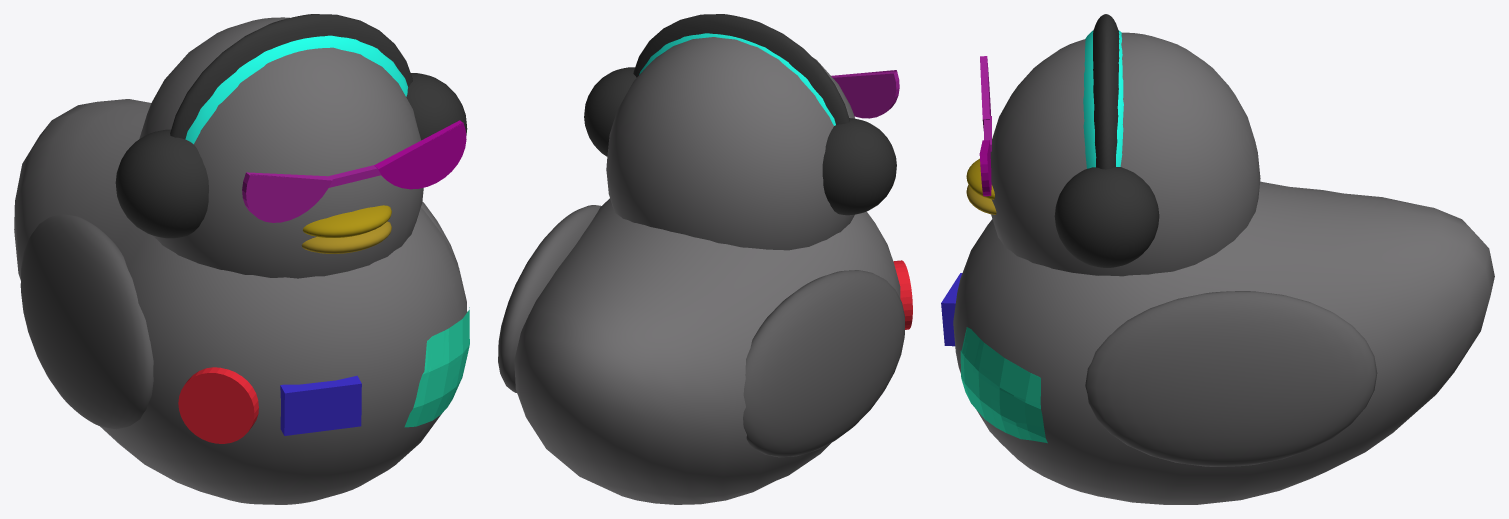
Rendered from ahiru.fbx.
3 renders of one model, left to right at view 1: azimuth 30°, elevation 25°; view 2: azimuth 150°, elevation 25°; view 3: azimuth 270°, elevation 25°, orthographic. The views are drawn at different scales.
Parts seen in each view (by area): view 1: 球, 球.001, 球.008, 球.006, 球.004, 円柱, 立方体, 立方体.001, 円柱.002, 円柱.001, 球.007, 球.005 (+3 smaller); view 2: 球, 球.001, 球.008, 球.006, 球.004, 球.009, 球.005, 円柱.001, 球.007, 円柱; view 3: 球, 球.009, 球.001, 球.005, 立方体.001, 球.004, 球.007, 立方体.
Part boxes in pixels (bbox=[...]): 球: bbox=[14, 99, 467, 504]; 球.001: bbox=[139, 17, 423, 278]; 球.008: bbox=[20, 214, 153, 429]; 球.006: bbox=[115, 129, 208, 238]; 球.004: bbox=[170, 14, 412, 139]; 円柱: bbox=[178, 367, 258, 443]; 立方体: bbox=[280, 375, 361, 435]; 立方体.001: bbox=[404, 307, 469, 427]; 円柱.002: bbox=[374, 120, 466, 189]; 円柱.001: bbox=[242, 172, 332, 222]; 球.007: bbox=[185, 35, 407, 144]; 球.005: bbox=[406, 73, 467, 140]; 球: bbox=[514, 198, 900, 504]; 球.001: bbox=[606, 37, 854, 250]; 球.008: bbox=[743, 270, 904, 457]; 球.006: bbox=[822, 118, 896, 215]; 球.004: bbox=[633, 14, 849, 124]; 球.009: bbox=[498, 205, 601, 392]; 球.005: bbox=[584, 67, 636, 156]; 円柱.001: bbox=[831, 70, 899, 118]; 球.007: bbox=[639, 33, 835, 125]; 円柱: bbox=[893, 260, 912, 329]; 球: bbox=[953, 181, 1494, 504]; 球.009: bbox=[1085, 291, 1377, 466]; 球.001: bbox=[990, 32, 1260, 276]; 球.005: bbox=[1054, 167, 1159, 267]; 立方体.001: bbox=[960, 327, 1047, 443]; 球.004: bbox=[1093, 14, 1119, 169]; 球.007: bbox=[1083, 30, 1123, 168]; 立方体: bbox=[941, 273, 962, 346].
Bounding box in the file's own units: 123 × 163 × 178.
